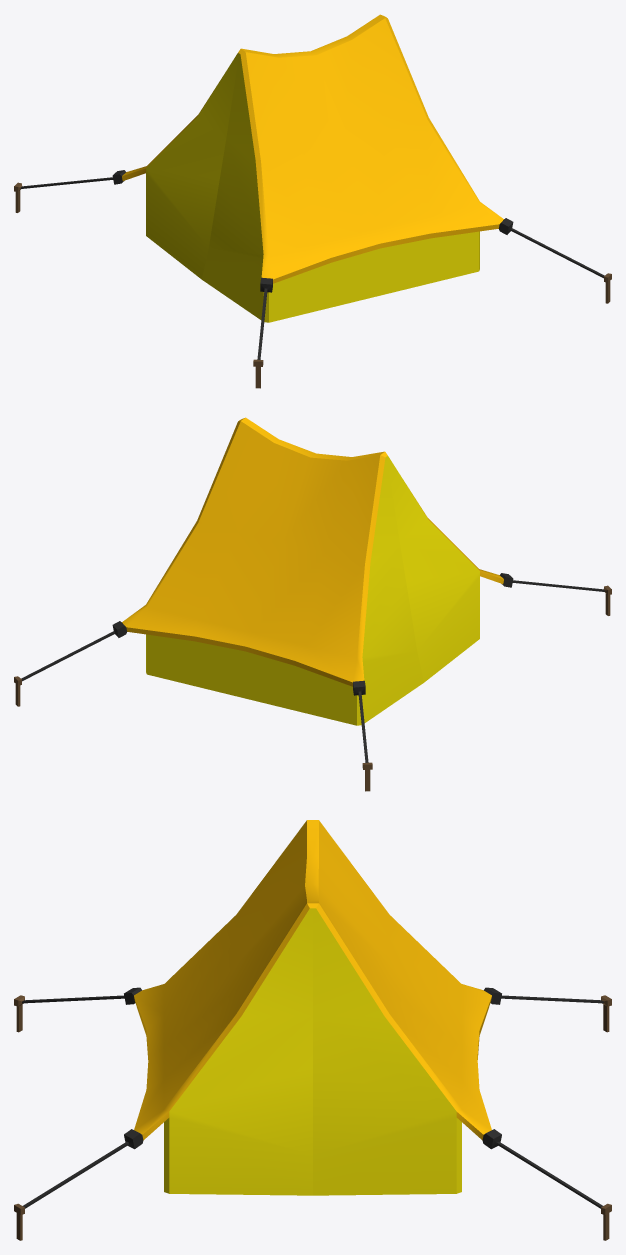
File: tent.fbx
The picture shows the model from 3 angles, top to bottom: view 1: azimuth 30°, elevation 25°; view 2: azimuth 150°, elevation 25°; view 3: azimuth 270°, elevation 25°; orthographic projection. The views are drawn at different scales.
Parts seen in each view (by area): view 1: tent; view 2: tent; view 3: tent.
Boxes of the visible parts, left/top/right/bottom form: tent: left=14, top=14, right=611, bottom=388; tent: left=14, top=417, right=611, bottom=791; tent: left=14, top=820, right=611, bottom=1240.
Size of the model in its own units: 445 by 266 by 527.
